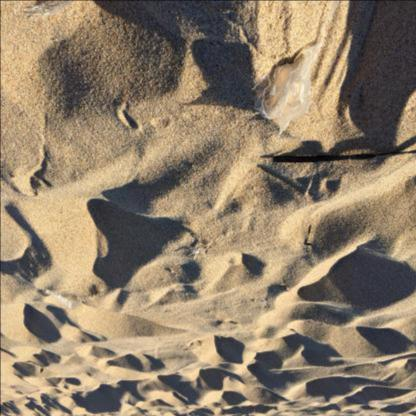Plastic bag - wrapper: (252, 1, 340, 137), (45, 289, 81, 309)
Straw: (272, 149, 416, 162)
